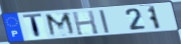1: (146, 5, 163, 31)
2: (125, 8, 148, 31)
H: (71, 10, 101, 36)
I: (98, 9, 112, 35)
M: (43, 12, 78, 38)
T: (22, 13, 44, 40)
